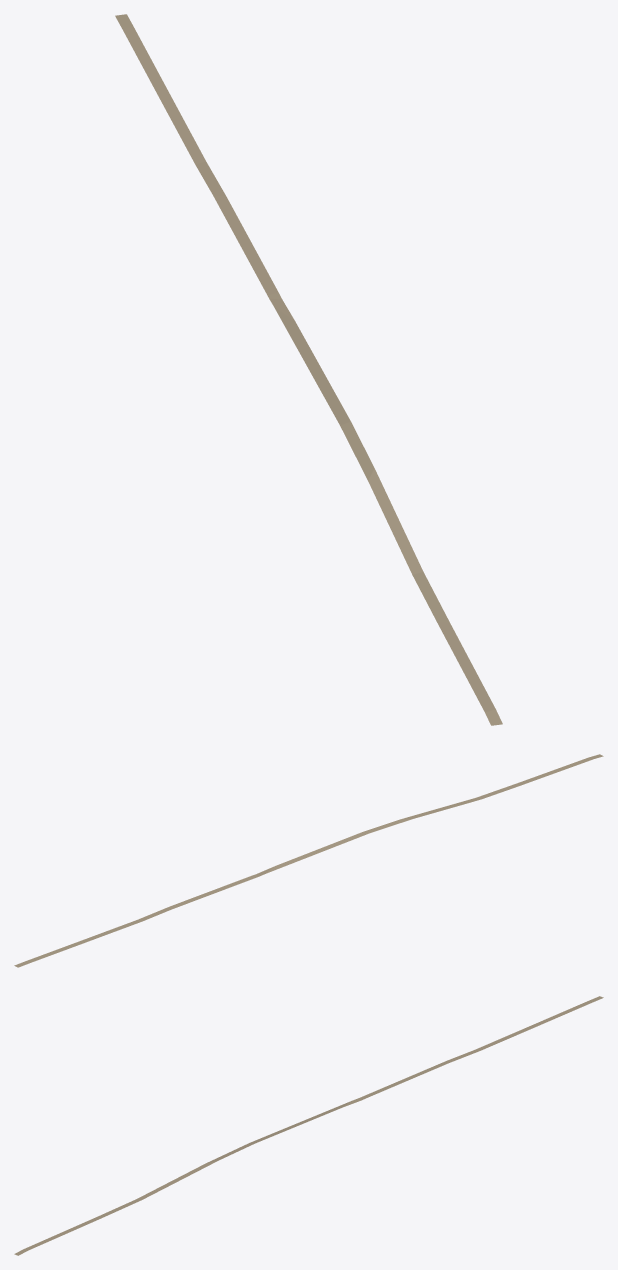
File: farm_6_3_track.glb
3 views of the same model, one above another, from view 1: azimuth 30°, elevation 25°; view 2: azimuth 150°, elevation 25°; view 3: azimuth 330°, elevation 25° (orthographic). The views are drawn at different scales.
Parts seen in each view (by area): view 1: geometry_0; view 2: geometry_0; view 3: geometry_0.
Part boxes in pixels (x1,y1,x2,y2): geometry_0: (115,14,502,725); geometry_0: (14,754,603,967); geometry_0: (14,996,603,1255).
Size of the model in its own units: 126 by 13.91 by 417.
